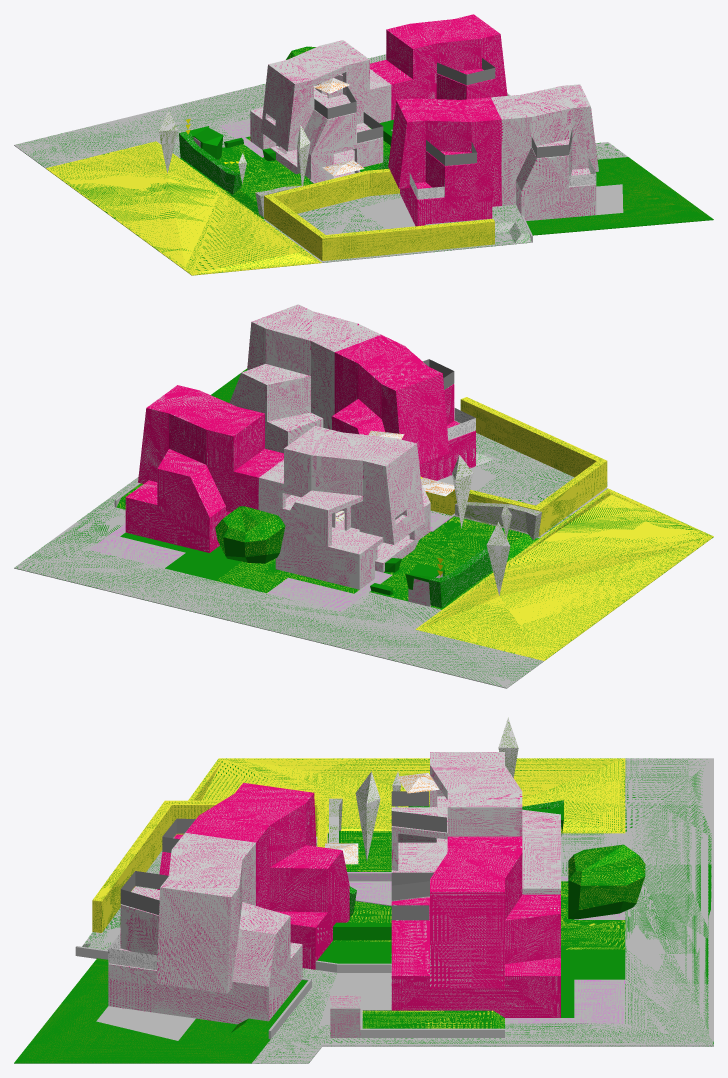
The model's file is h24og2_poly_test_orig.dae.
3 views of the same model, one above another, from view 1: azimuth 30°, elevation 25°; view 2: azimuth 150°, elevation 25°; view 3: azimuth 270°, elevation 25° (orthographic). The views are drawn at different scales.
Visible parts, largest first — view 1: walls_house___clip (×4), lawn (×6), hedge (×5), pavement (×4), handrail (×5); view 2: walls_house___clip (×4), lawn (×7), pavement (×3), hedge (×7); view 3: walls_house___clip (×4), pavement (×6), lawn (×12), hedge (×7), handrail (×5), walls_shed, umbrella.
Boxes of the visible parts, left/top/right/bottom form: walls_house___clip (×4): left=250, top=14, right=598, bottom=226; lawn (×6): left=46, top=141, right=713, bottom=275; hedge (×5): left=158, top=110, right=494, bottom=260; pavement (×4): left=14, top=54, right=627, bottom=228; handrail (×5): left=314, top=58, right=572, bottom=165; walls_house___clip (×4): left=125, top=304, right=475, bottom=589; lawn (×7): left=120, top=419, right=713, bottom=660; pavement (×3): left=14, top=477, right=543, bottom=688; hedge (×7): left=215, top=397, right=607, bottom=607; walls_house___clip (×4): left=108, top=752, right=560, bottom=1024; pavement (×6): left=96, top=758, right=713, bottom=1063; lawn (×12): left=14, top=758, right=625, bottom=1063; hedge (×7): left=92, top=717, right=645, bottom=940; handrail (×5): left=108, top=791, right=446, bottom=970; walls_shed: left=330, top=995, right=360, bottom=1037; umbrella: left=397, top=773, right=439, bottom=793.
Bounding box in the file's own units: 1712 × 1662 × 343.
